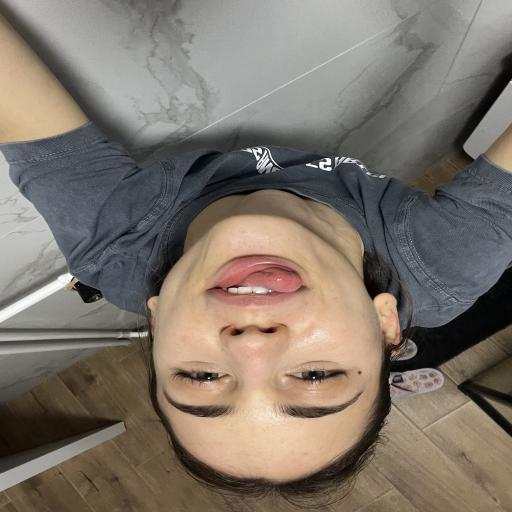masa: (154, 215, 378, 479)
